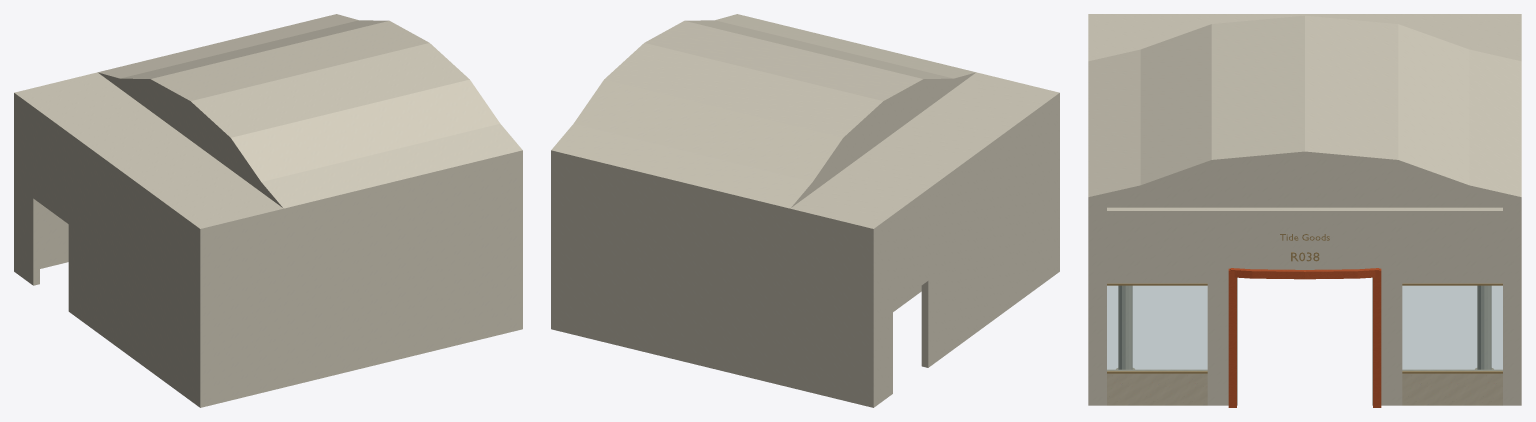
The model's file is SHOP_D09_P100_F080__shell.glb.
The picture shows the model from 3 angles, left to right: view 1: azimuth 30°, elevation 25°; view 2: azimuth 150°, elevation 25°; view 3: azimuth 270°, elevation 25°; orthographic projection. The views are drawn at different scales.
Parts seen in each view (by area): view 1: SHOP_D09_P100_F080__shell__ivory_enamel; view 2: SHOP_D09_P100_F080__shell__ivory_enamel; view 3: SHOP_D09_P100_F080__shell__ivory_enamel, SHOP_D09_P100_F080__shell__shop_glass, SHOP_D09_P100_F080__shell__warm_stone, SHOP_D09_P100_F080__shell__retail_terracotta_enamel, SHOP_D09_P100_F080__shell__champagne_metal.
Boxes of the visible parts, x1=… form: SHOP_D09_P100_F080__shell__ivory_enamel: x1=14, y1=14, x2=522, y2=407; SHOP_D09_P100_F080__shell__ivory_enamel: x1=551, y1=14, x2=1059, y2=407; SHOP_D09_P100_F080__shell__ivory_enamel: x1=1088, y1=14, x2=1521, y2=405; SHOP_D09_P100_F080__shell__shop_glass: x1=1107, y1=286, x2=1502, y2=370; SHOP_D09_P100_F080__shell__warm_stone: x1=1107, y1=368, x2=1502, y2=405; SHOP_D09_P100_F080__shell__retail_terracotta_enamel: x1=1228, y1=268, x2=1381, y2=407; SHOP_D09_P100_F080__shell__champagne_metal: x1=1107, y1=234, x2=1502, y2=373.
Bounding box in the file's own units: 11.86 × 7.5 × 11.6.
Materials: 6 (4 with a texture image).
